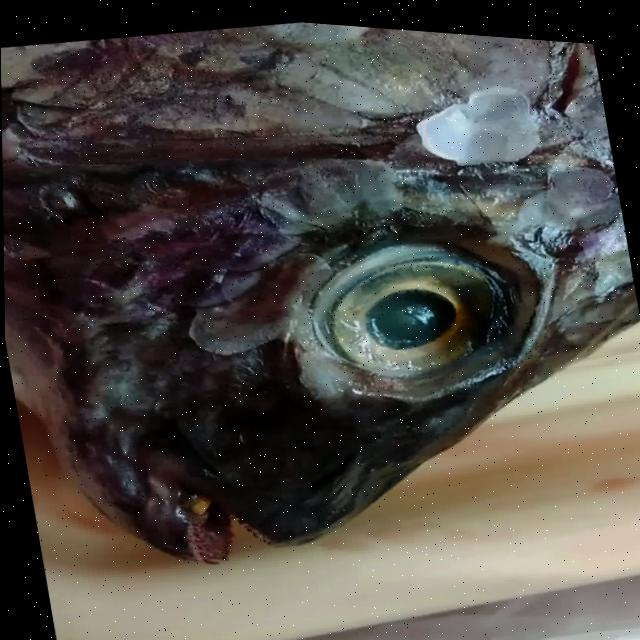Non-Fresh: (0, 0, 640, 599), (280, 190, 543, 431)
